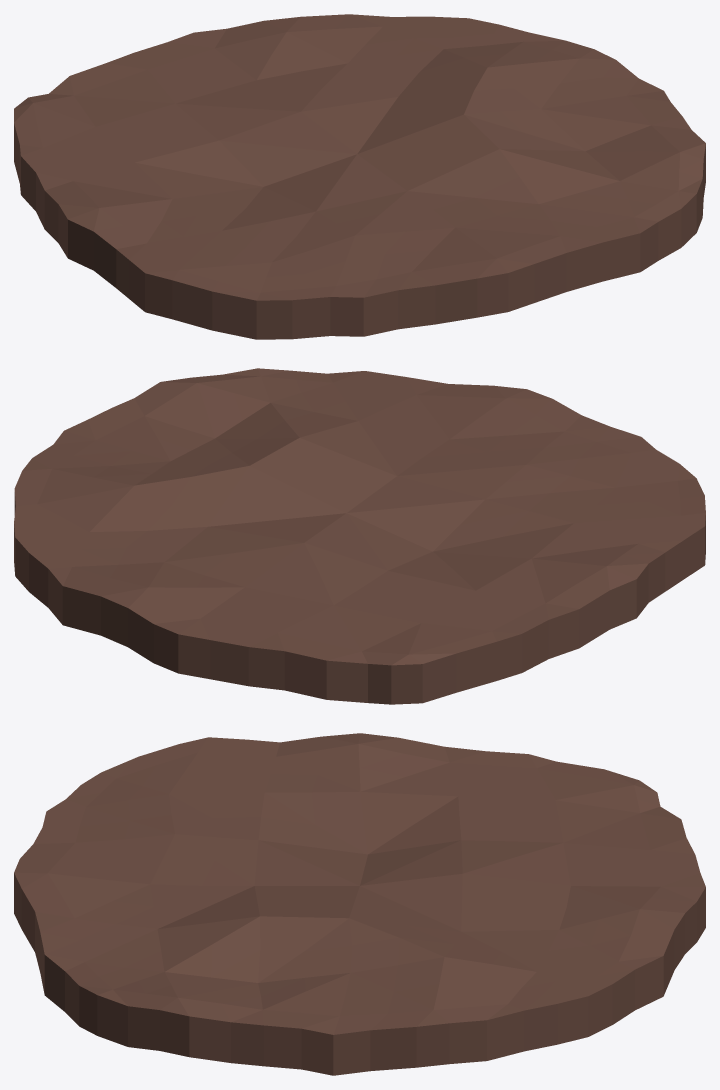
The model's file is montaña 1.fbx.
3 renders of one model, top to bottom at view 1: azimuth 30°, elevation 25°; view 2: azimuth 150°, elevation 25°; view 3: azimuth 270°, elevation 25°, orthographic. The views are drawn at different scales.
Parts seen in each view (by area): view 1: Circle; view 2: Circle; view 3: Circle.
Part boxes in pixels (box(x1,y1,x2,y2)): Circle: box(14, 14, 705, 339); Circle: box(14, 368, 705, 704); Circle: box(14, 733, 705, 1075).
Size of the model in its own units: 181 by 21.14 by 178.
